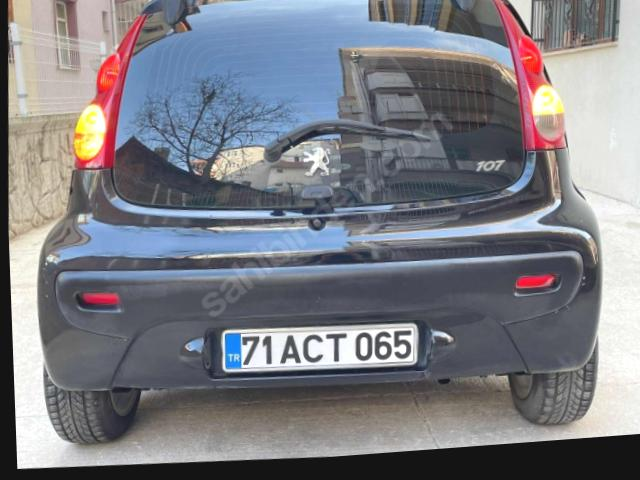plaka: (221, 324, 418, 373)
